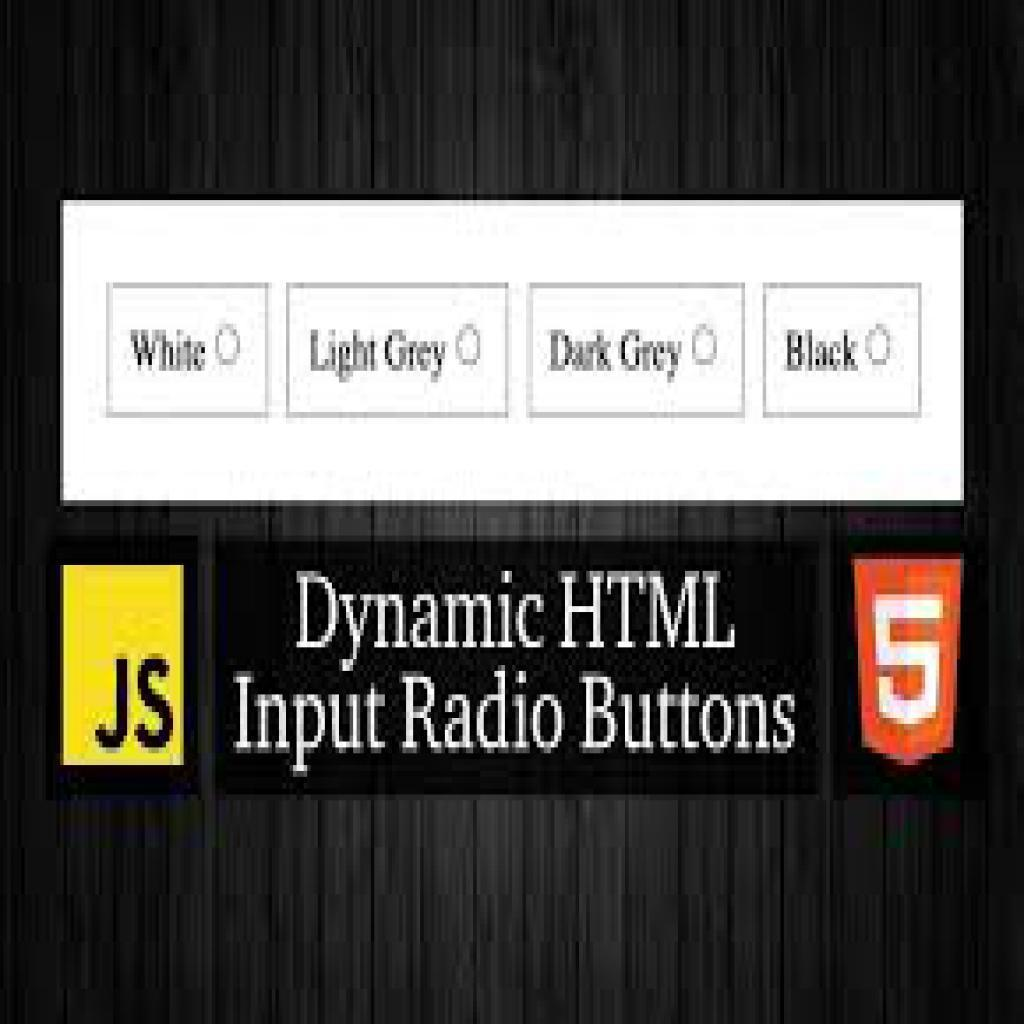label: (302, 326, 447, 386), (547, 327, 683, 384), (130, 324, 209, 375), (783, 327, 857, 375)
radio: (453, 322, 489, 369), (213, 322, 246, 369), (865, 323, 896, 370), (692, 326, 720, 368)
